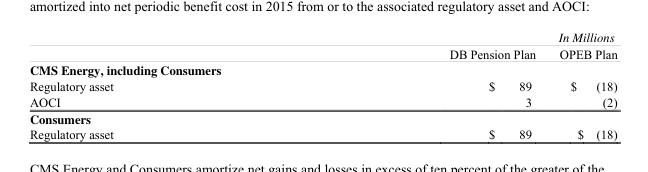table: (28, 29, 616, 140)
table column: (280, 29, 546, 140), (28, 29, 280, 140), (546, 29, 616, 140)
table column header: (28, 29, 616, 60)
table projected row header: (28, 60, 616, 78), (28, 108, 616, 126)
table row: (28, 29, 616, 60), (28, 60, 616, 78), (28, 108, 616, 126), (28, 78, 616, 93), (28, 93, 616, 108), (28, 126, 616, 140)
